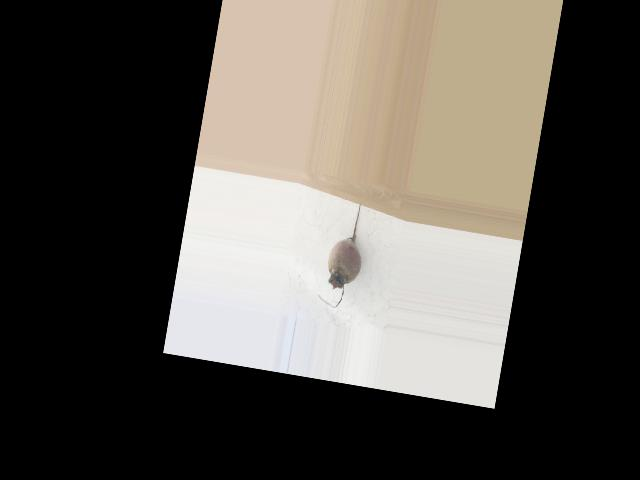beet: (316, 197, 371, 310)
